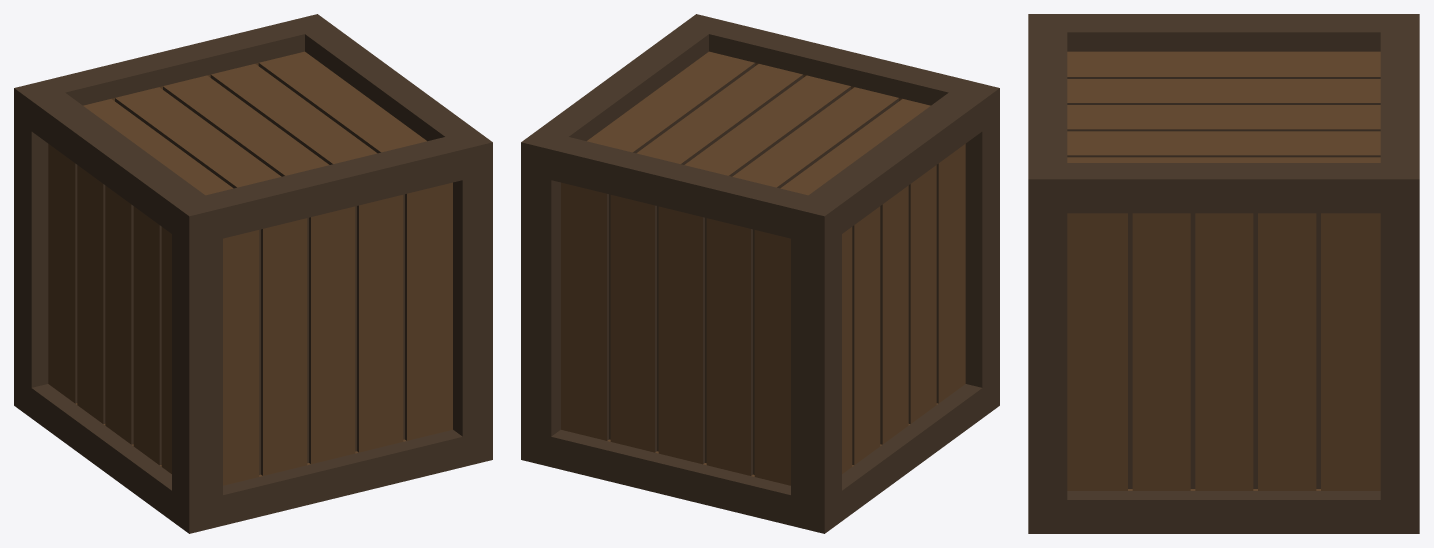
Rendered from wooden_box.fbx.
The picture shows the model from 3 angles, left to right: view 1: azimuth 30°, elevation 25°; view 2: azimuth 150°, elevation 25°; view 3: azimuth 270°, elevation 25°; orthographic projection. The views are drawn at different scales.
Visible parts, largest first — view 1: woodenBox; view 2: woodenBox; view 3: woodenBox.
Boxes of the visible parts, box(x1,y1,x2,y2) form: woodenBox: box(14, 14, 492, 533); woodenBox: box(521, 14, 999, 533); woodenBox: box(1028, 14, 1419, 533).
Bounding box in the file's own units: 76.79 × 76.79 × 76.79.
2 materials, 2 textured.
